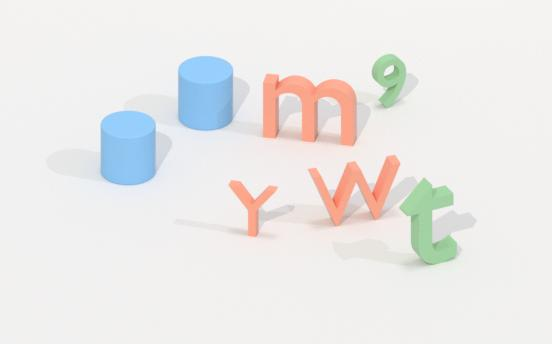9: (369, 52, 412, 110)
Y-hoa: (223, 175, 282, 242)
m: (254, 72, 361, 147)
t: (398, 177, 468, 270)
tru: (172, 53, 235, 132), (97, 110, 159, 188)
w: (297, 155, 401, 229)
